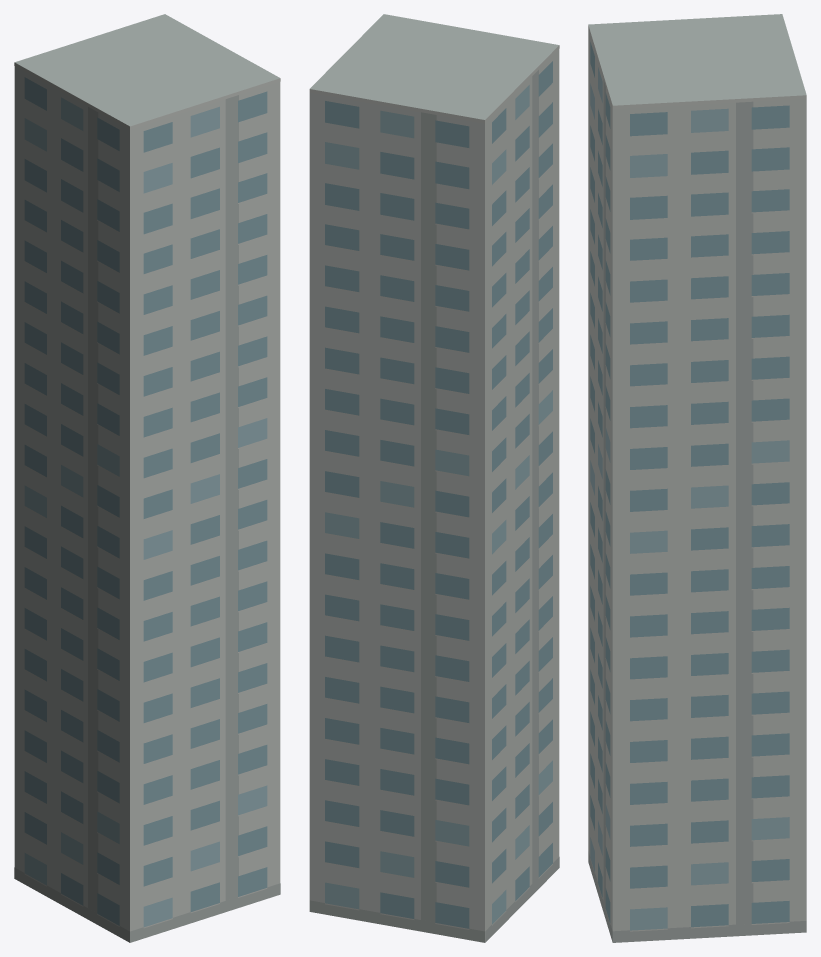
The model's file is residential-fc9bd23d-76e9-4372-836a-aa3ab12a8ffe.glb.
3 views of the same model, side by side, from view 1: azimuth 30°, elevation 25°; view 2: azimuth 150°, elevation 25°; view 3: azimuth 270°, elevation 25° (orthographic). The views are drawn at different scales.
Parts seen in each view (by area): view 1: residential-fc9bd23d-76e9-4372-836a-aa3ab12a8ffe.tmp; view 2: residential-fc9bd23d-76e9-4372-836a-aa3ab12a8ffe.tmp; view 3: residential-fc9bd23d-76e9-4372-836a-aa3ab12a8ffe.tmp.
Part boxes in pixels (box(x1,y1,x2,y2)): residential-fc9bd23d-76e9-4372-836a-aa3ab12a8ffe.tmp: box(14, 14, 280, 942); residential-fc9bd23d-76e9-4372-836a-aa3ab12a8ffe.tmp: box(309, 14, 559, 942); residential-fc9bd23d-76e9-4372-836a-aa3ab12a8ffe.tmp: box(588, 14, 806, 942).
Bounding box in the file's own units: 13.4 × 57 × 13.49.
